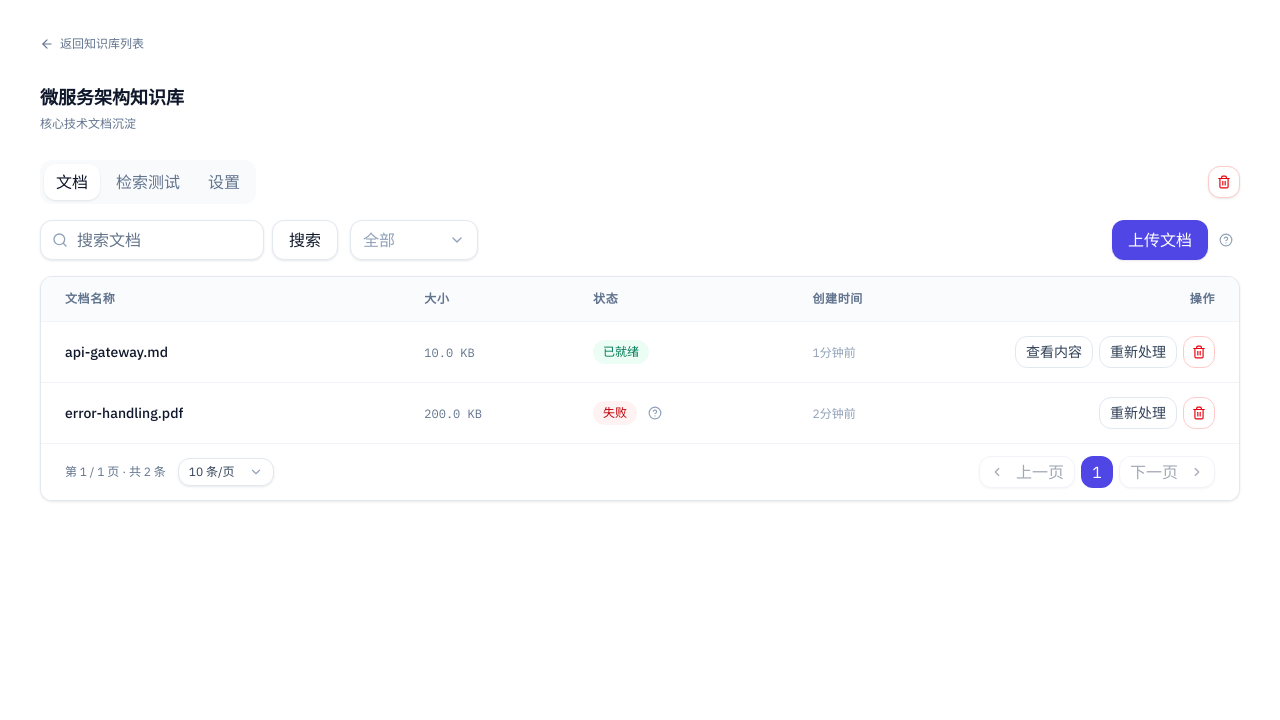
Test: KnowledgePage › renders library detail page with three tabs and allows switching
The image size is (1280, 720).
Expected: the tab "文档" is shown, [44, 164, 100, 200]
Expected: the tab "设置" is shown, [196, 164, 252, 200]
切换到命中测试 Tab
Click the tab "检索测试" at (148, 182), box [104, 164, 192, 200]
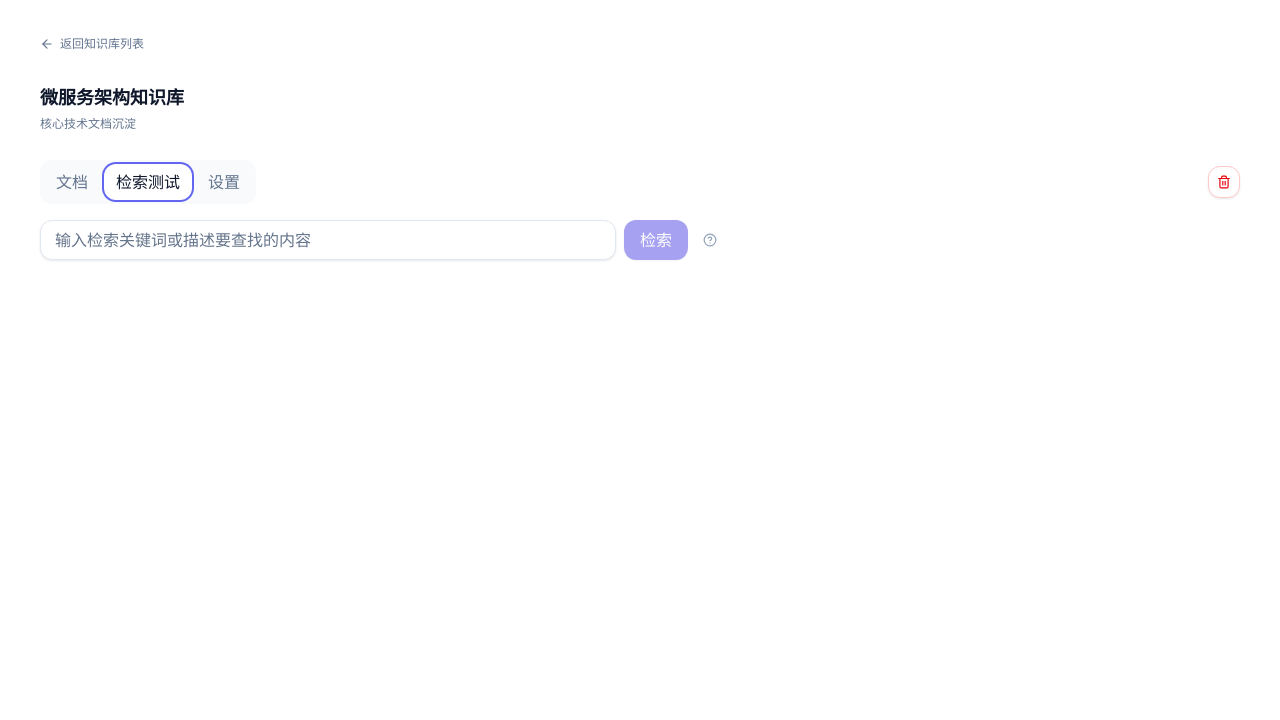
Now the field with placeholder "输入检索关键词或描述要查找的内容" is shown, box [40, 220, 616, 260]
切换到配置 Tab
Click the tab "设置" at (224, 182), box [196, 164, 252, 200]
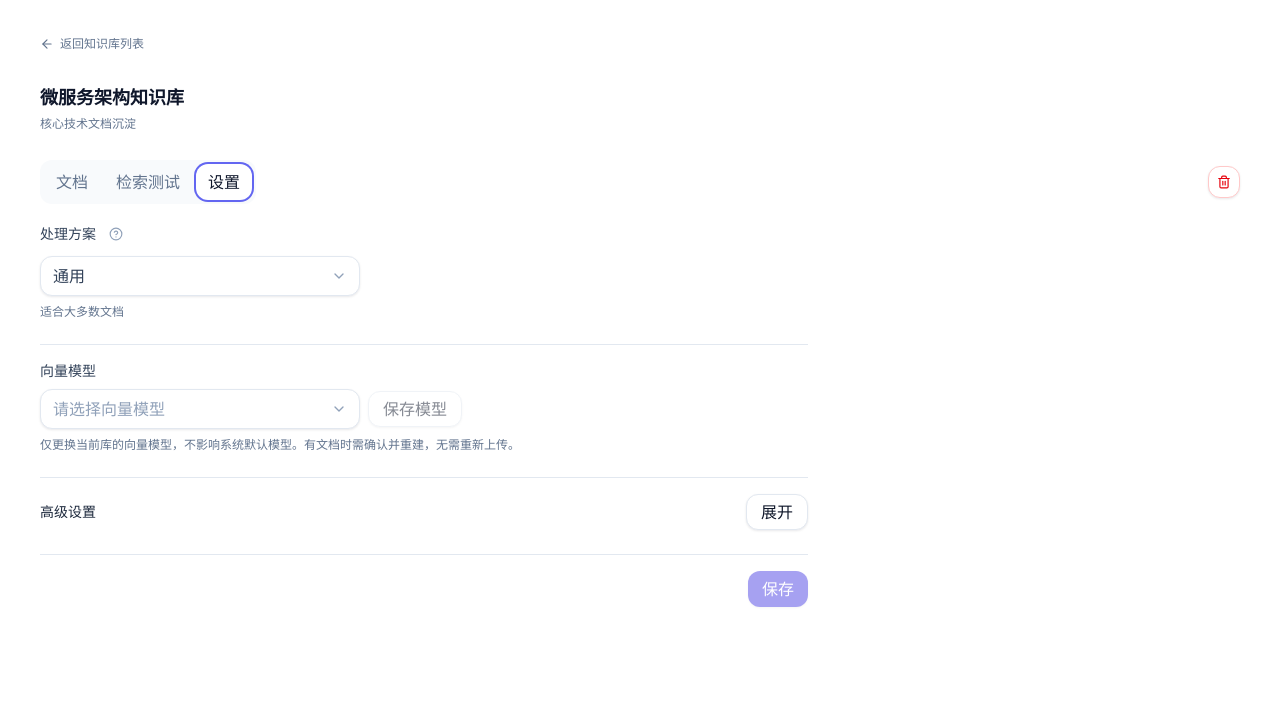
Now the button with aria-label "处理方案" is shown, box [40, 256, 360, 296]
Now the button "展开" is shown, box [746, 494, 808, 530]
